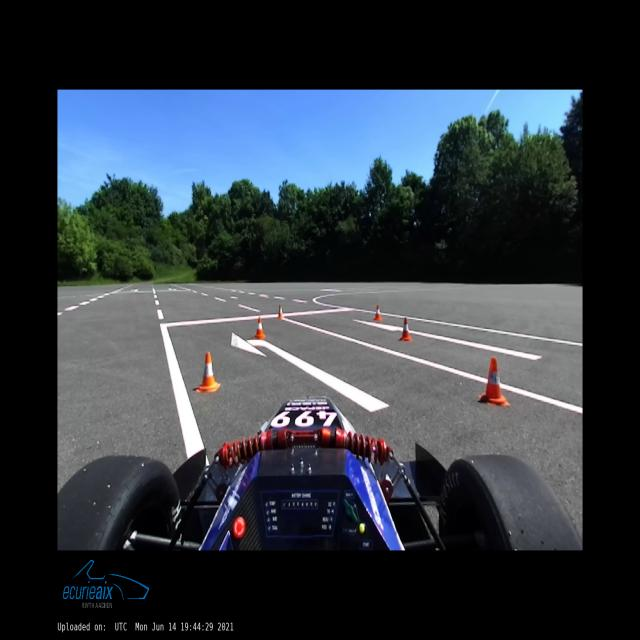orange_cone: (479, 357, 510, 407), (196, 352, 220, 392), (399, 318, 412, 341), (254, 317, 266, 338), (374, 304, 382, 320), (277, 305, 284, 318)
